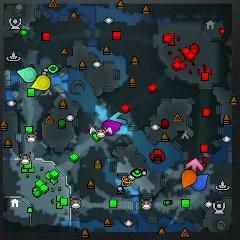p1: (192, 174, 208, 191)
p2: (16, 67, 36, 83)
p3: (102, 120, 121, 135)
p4: (30, 75, 51, 91)
p5: (181, 170, 197, 189)
x1: (186, 157, 203, 173)
x3: (109, 112, 127, 124)
